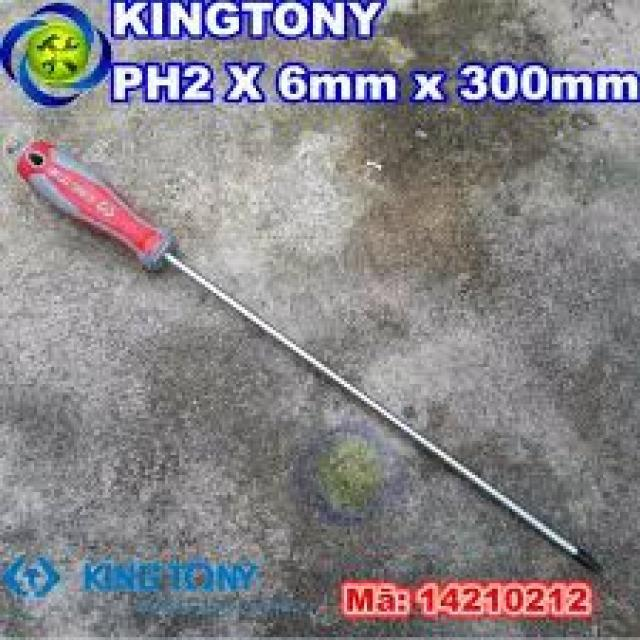screwdriver: (53, 280, 510, 491)
